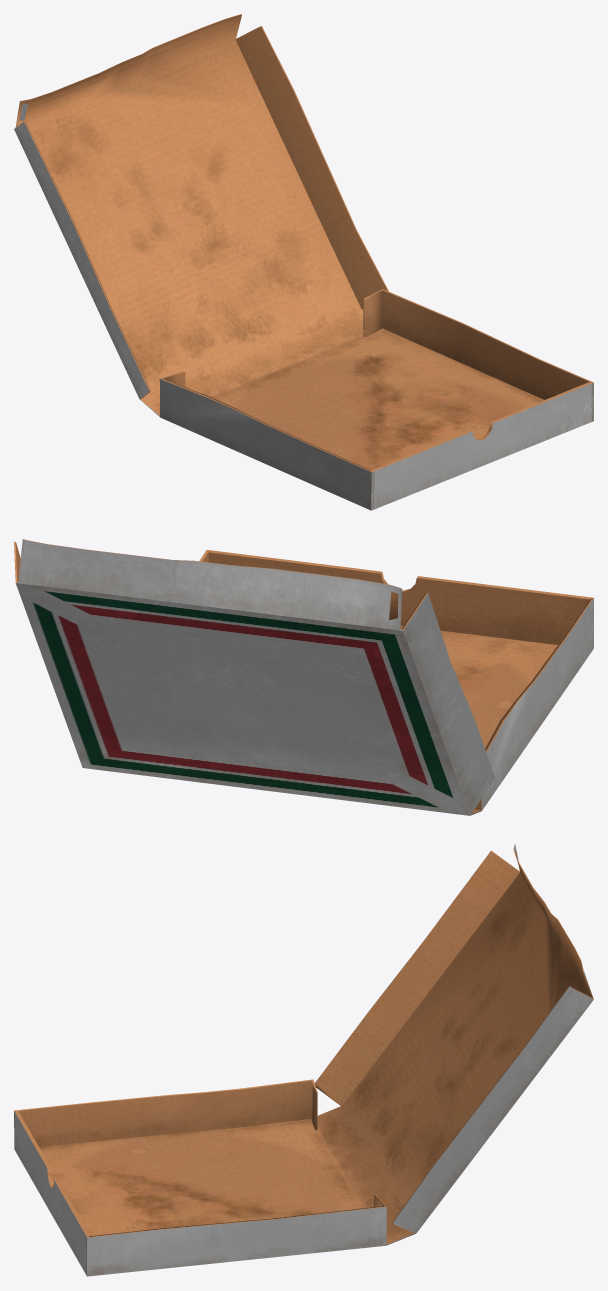
The model's file is Pizza_box.fbx.
The picture shows the model from 3 angles, top to bottom: view 1: azimuth 30°, elevation 25°; view 2: azimuth 150°, elevation 25°; view 3: azimuth 270°, elevation 25°; orthographic projection. The views are drawn at different scales.
Parts seen in each view (by area): view 1: Pizza_box; view 2: Pizza_box; view 3: Pizza_box.
Part boxes in pixels (x1,y1,x2,y2): Pizza_box: (14, 14, 593, 510); Pizza_box: (14, 539, 593, 815); Pizza_box: (14, 844, 593, 1276).
Bounding box in the file's own units: 65.24 × 42.67 × 88.11.
1 material, 1 textured.
